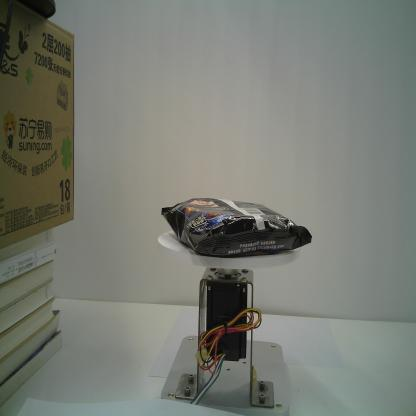Instant Noodles: (162, 195, 314, 258)
